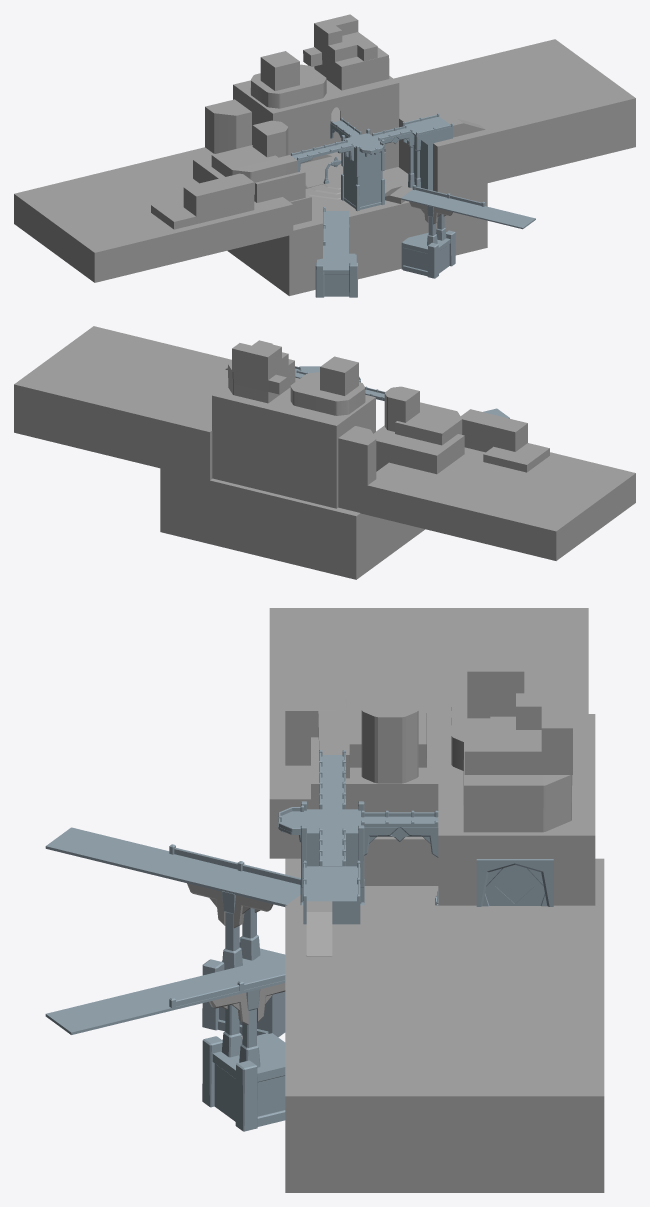
File: Library_withBuildings.fbx
3 views of the same model, one above another, from view 1: azimuth 30°, elevation 25°; view 2: azimuth 150°, elevation 25°; view 3: azimuth 270°, elevation 25° (orthographic). The views are drawn at different scales.
Parts seen in each view (by area): view 1: pCube8, pCube9, pCube1, Library_Wall_Front, Large_04, Floor_1x368 (×2), Medium_08, Tall_07, Small_05, Medium_07, Medium_09, Large_03 (+9 smaller); view 2: pCube8, pCube9, pCube1, Library_Wall_Back, Large_04, Tall_07, Large_03, Medium_09, Medium_07, Small_05, Medium_08, Library_Roof (+3 smaller); view 3: pCube8, pCube9, Floor_1x368 (×2), Library_Wall_Right, Small_05, Medium_08, Large_04, Tall_06, Library_Roof, Large_03, Small_06, Column_Large3 (×4) (+14 smaller).
Boxes of the visible parts, left/top/right/bottom form: pCube8: left=394, top=39, right=635, bottom=193; pCube9: left=14, top=147, right=293, bottom=282; pCube1: left=227, top=167, right=487, bottom=295; Library_Wall_Front: left=272, top=82, right=399, bottom=168; Large_04: left=151, top=173, right=254, bottom=229; Floor_1x368 (×2): left=323, top=189, right=535, bottom=271; Medium_08: left=303, top=47, right=389, bottom=90; Tall_07: left=205, top=99, right=251, bottom=153; Small_05: left=314, top=14, right=377, bottom=61; Medium_07: left=211, top=145, right=297, bottom=194; Medium_09: left=250, top=64, right=326, bottom=108; Large_03: left=193, top=155, right=305, bottom=202; pCube8: left=14, top=326, right=231, bottom=480; pCube9: left=360, top=447, right=635, bottom=560; pCube1: left=160, top=468, right=424, bottom=579; Library_Wall_Back: left=212, top=395, right=337, bottom=507; Large_04: left=461, top=409, right=549, bottom=472; Tall_07: left=338, top=426, right=376, bottom=514; Large_03: left=373, top=425, right=464, bottom=474; Medium_09: left=290, top=372, right=365, bottom=415; Medium_07: left=395, top=402, right=462, bottom=445; Small_05: left=232, top=340, right=288, bottom=380; Medium_08: left=228, top=359, right=295, bottom=403; Library_Roof: left=214, top=378, right=373, bottom=424; pCube8: left=285, top=905, right=604, bottom=1192; pCube9: left=269, top=608, right=588, bottom=858; Floor_1x368 (×2): left=45, top=827, right=300, bottom=1034; Library_Wall_Right: left=441, top=834, right=592, bottom=905; Small_05: left=464, top=693, right=572, bottom=774; Medium_08: left=463, top=740, right=572, bottom=832; Large_04: left=285, top=655, right=376, bottom=765; Tall_06: left=361, top=693, right=418, bottom=783; Library_Roof: left=441, top=715, right=592, bottom=834; Large_03: left=311, top=715, right=438, bottom=812; Small_06: left=467, top=647, right=524, bottom=718; Column_Large3 (×4): left=221, top=891, right=260, bottom=1067.
Size of the model in its own units: 194 by 66.48 by 87.02.
